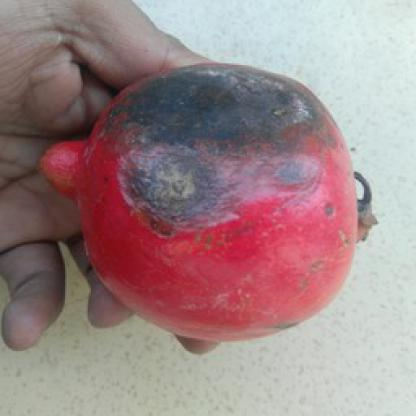pomegranate_rotten: (37, 55, 377, 341)
